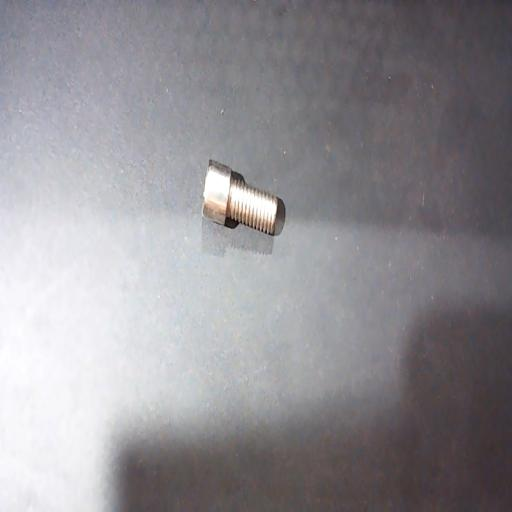screw: (202, 159, 278, 236)
